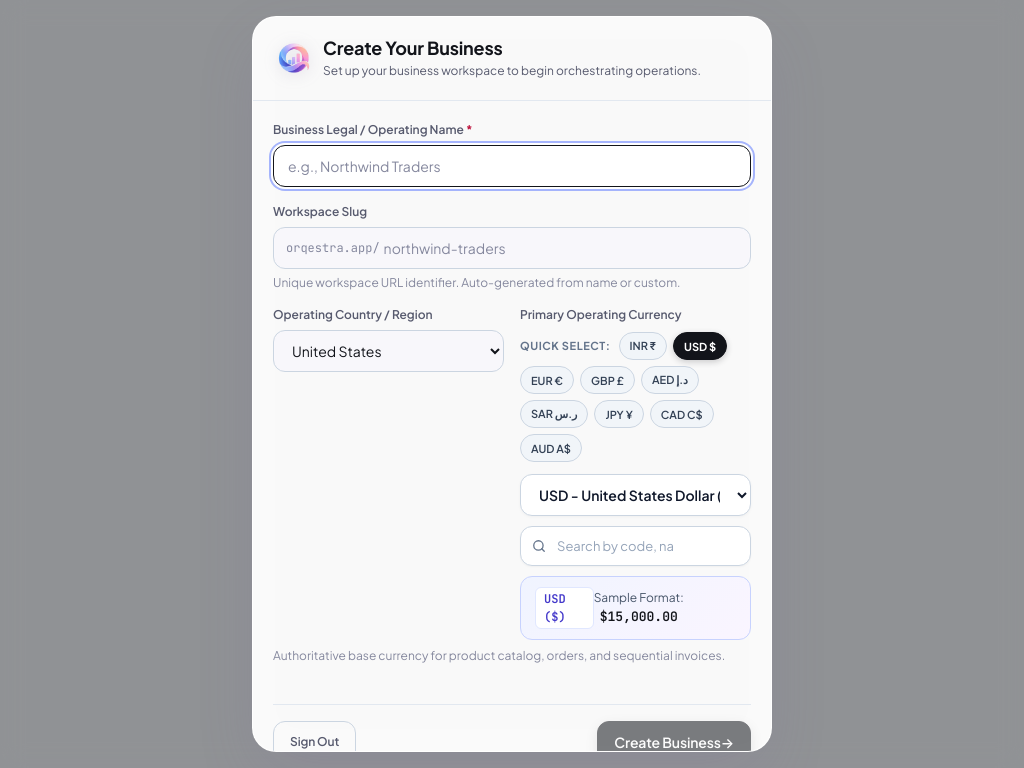
Test: Phase 8.1A: Operator Onboarding & Business Creation › 3. CreateBusinessModal UI Component › renders modal dialog with accessible attributes, fields, and auto-generated slug
Expected: the heading "Create Your Business" is shown, [323,36,502,59]
Expected: the field labelled "Workspace Slug" is shown, [384,227,750,269]
// Auto-generates slug from name as user types
Type "Delta Logistics Inc" into the field with test id "biz-name-input".
click(512, 166); type("Delta Logistics Inc")  # box [273,145,751,187]
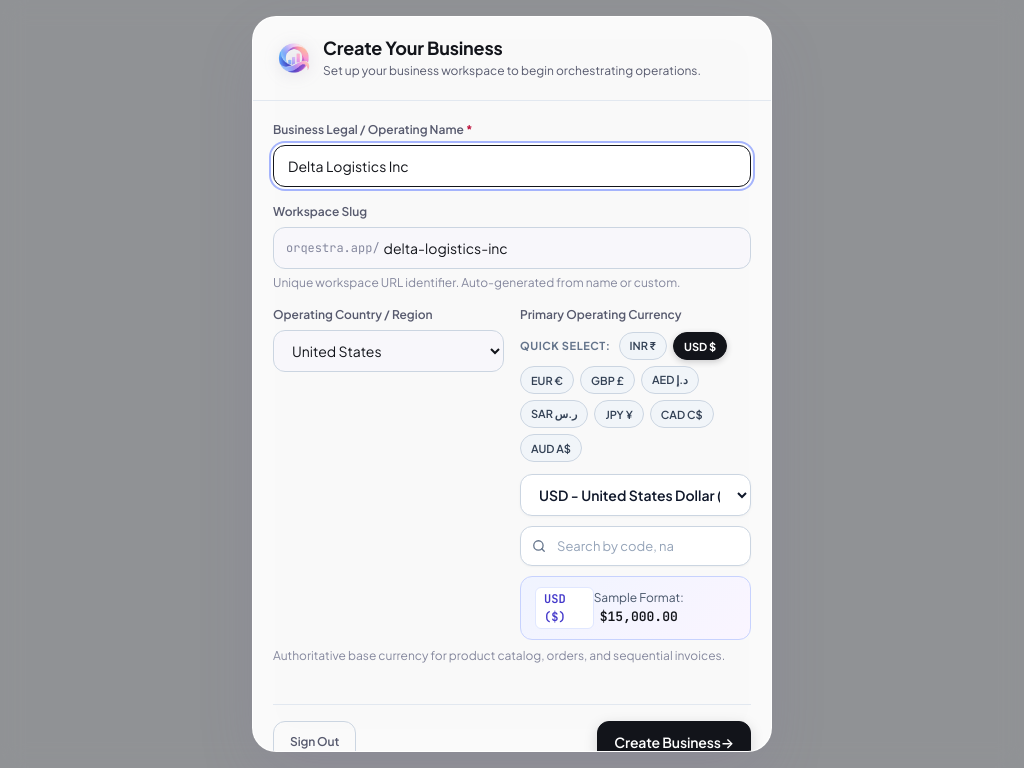
Now the field with test id "biz-slug-input" holds "delta-logistics-inc", box [384,227,750,269]
